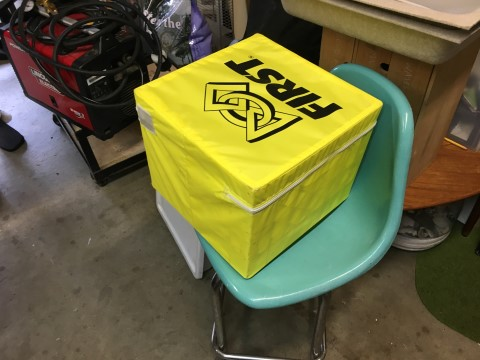cube: (131, 31, 383, 280)
